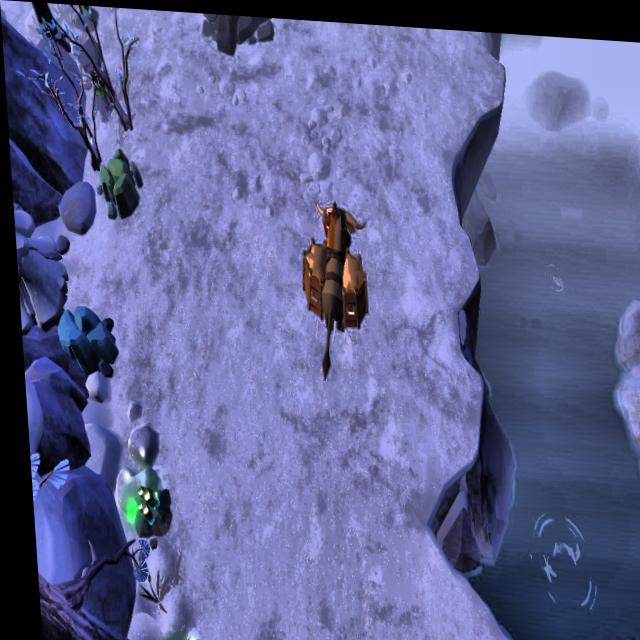ore_t4: (129, 479, 155, 527)
rock_t3: (93, 147, 144, 222)
rock_t4: (51, 294, 115, 382)
